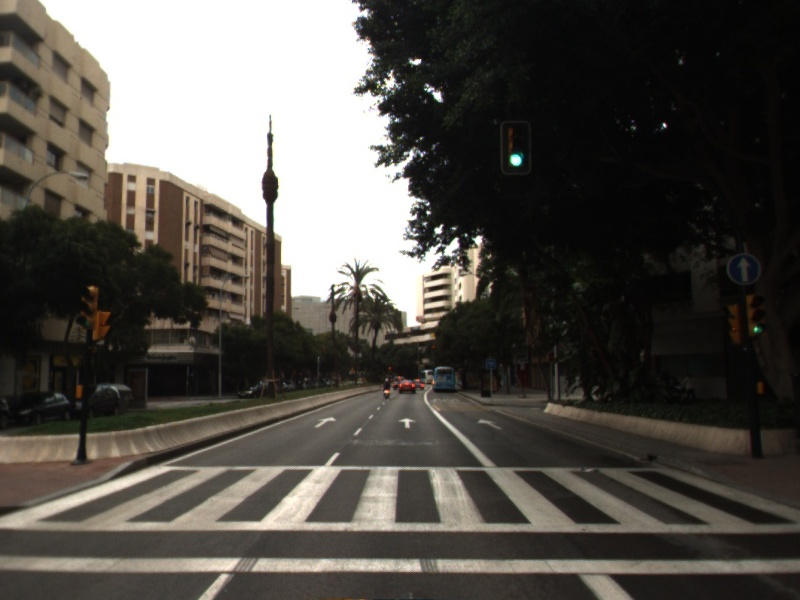STRAIGHT: (475, 416, 504, 432), (312, 414, 338, 430), (396, 415, 419, 430)
